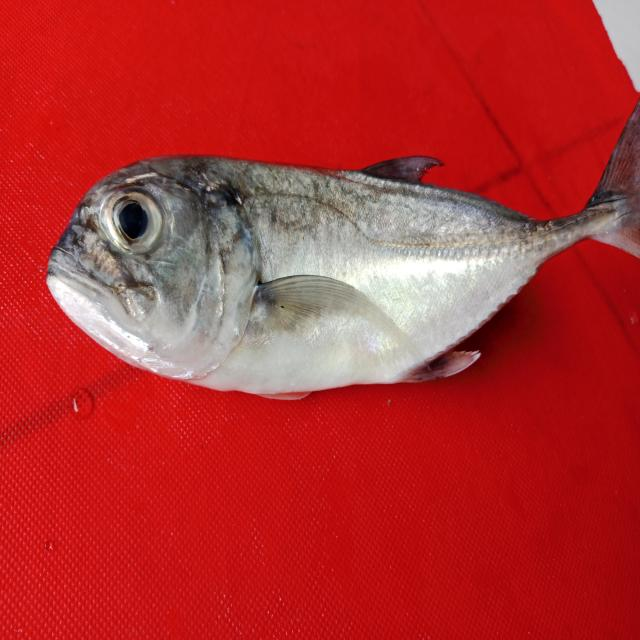ikan: (30, 85, 633, 417)
